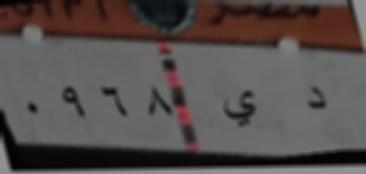0: (21, 91, 48, 128)
6: (96, 80, 130, 125)
8: (142, 84, 174, 122)
9: (60, 81, 92, 124)
daal: (302, 81, 331, 117)
yaa: (214, 82, 262, 130)
